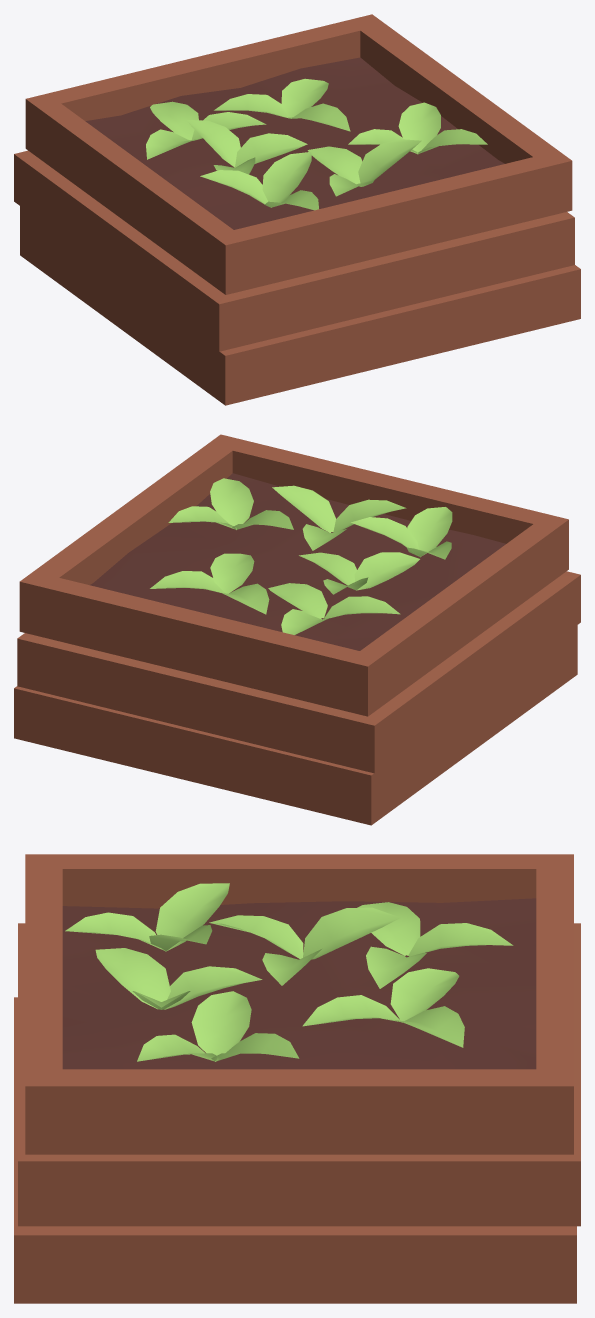
Rendered from SM_FlowerSquarePot.FBX.
The picture shows the model from 3 angles, top to bottom: view 1: azimuth 30°, elevation 25°; view 2: azimuth 150°, elevation 25°; view 3: azimuth 270°, elevation 25°; orthographic projection. The views are drawn at different scales.
Parts seen in each view (by area): view 1: FlowerSquarePot; view 2: FlowerSquarePot; view 3: FlowerSquarePot.
Boxes of the visible parts, x1,y1,x2,y2 form: FlowerSquarePot: (14,14,580,405); FlowerSquarePot: (14,434,580,825); FlowerSquarePot: (14,854,580,1303).
Bounding box in the file's own units: 164 × 71.73 × 163.
1 material, 1 textured.
